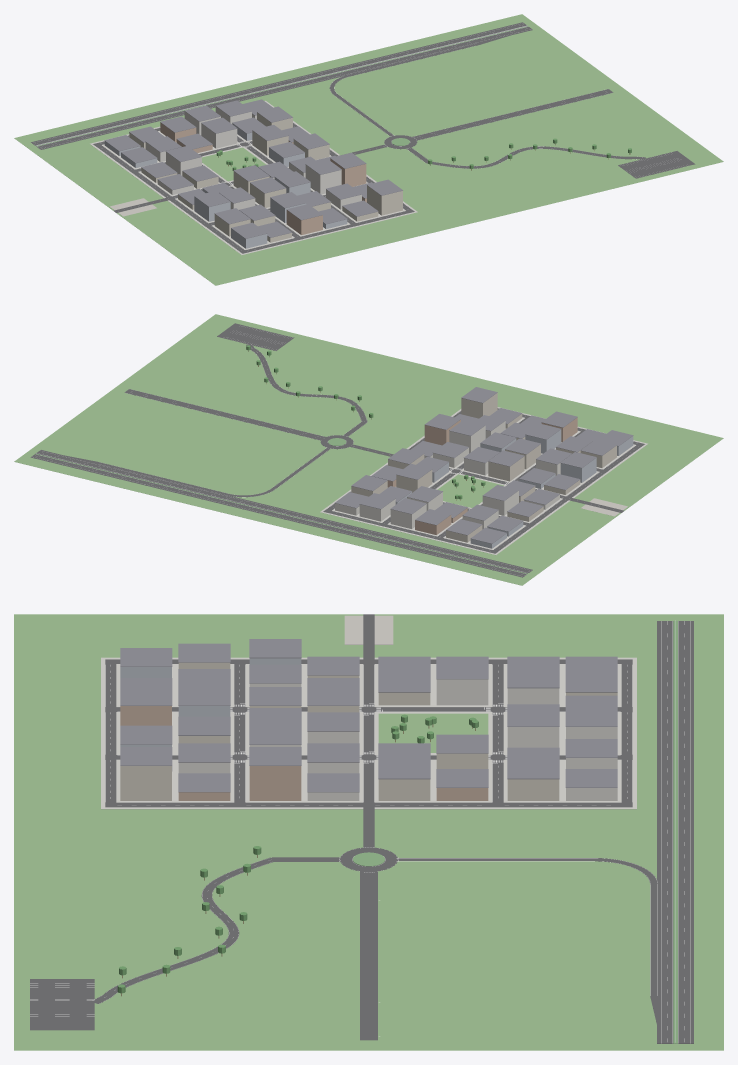
Rendered from proving-ground.glb.
3 renders of one model, top to bottom at view 1: azimuth 30°, elevation 25°; view 2: azimuth 150°, elevation 25°; view 3: azimuth 270°, elevation 25°, orthographic. The views are drawn at different scales.
Bounding box in the file's own units: 640 × 24.4 × 440.
